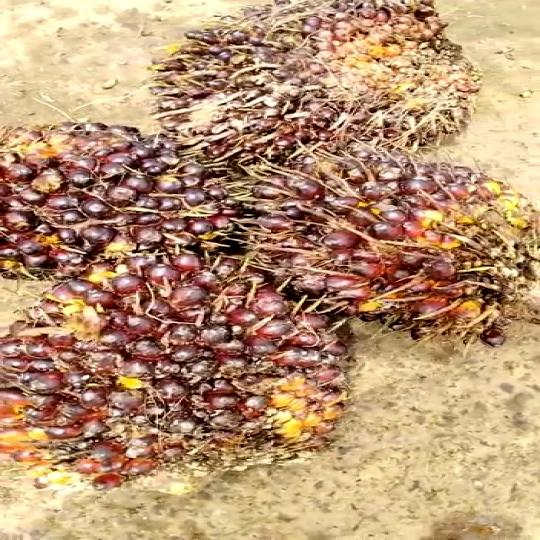kurang masak: (0, 241, 347, 500), (234, 152, 540, 356), (117, 0, 466, 177), (0, 124, 207, 278)
